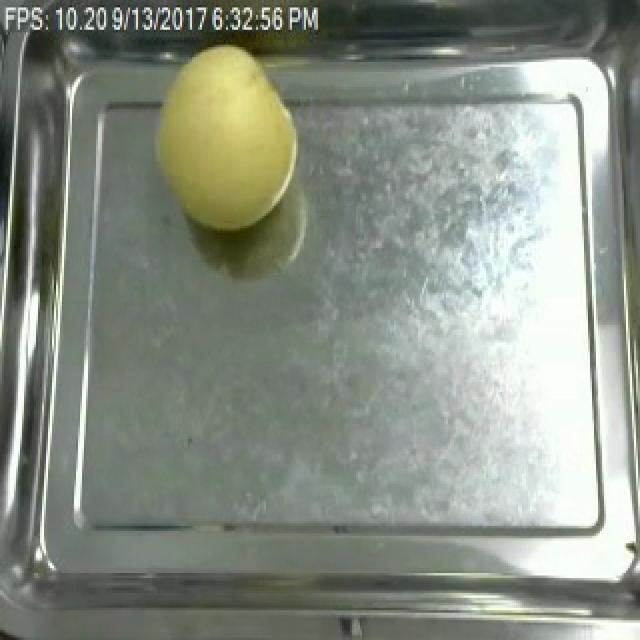Fruit: (146, 37, 308, 238)
